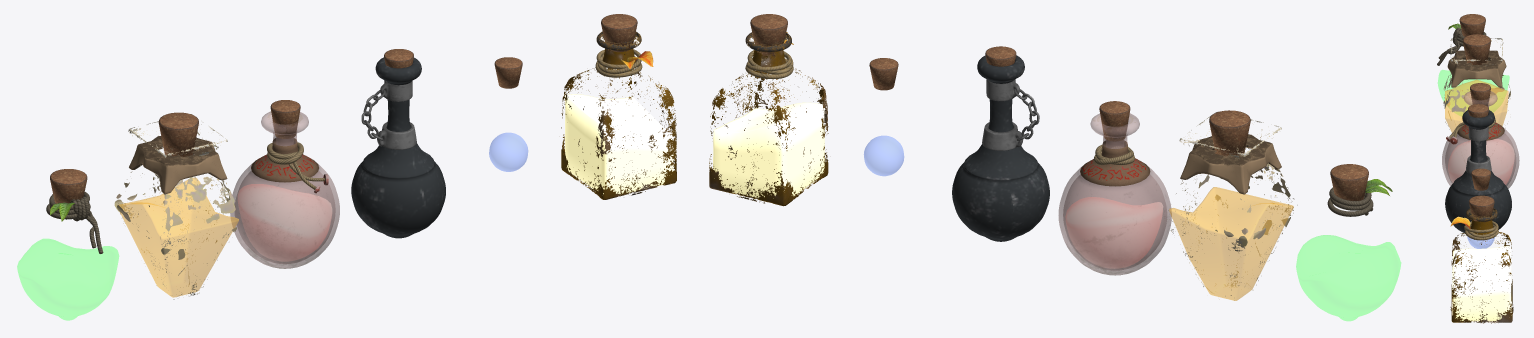
The model's file is Potions.fbx.
The picture shows the model from 3 angles, left to right: view 1: azimuth 30°, elevation 25°; view 2: azimuth 150°, elevation 25°; view 3: azimuth 270°, elevation 25°; orthographic projection. The views are drawn at different scales.
Parts seen in each view (by area): view 1: AttackSpeedBottle, Elixir of the Second Sight, HPRegenBottle, StrengthBottle, AgilityBotle, IllusionBottle; view 2: AttackSpeedBottle, Elixir of the Second Sight, HPRegenBottle, StrengthBottle, AgilityBotle, IllusionBottle; view 3: Elixir of the Second Sight, AttackSpeedBottle, StrengthBottle, HPRegenBottle, AgilityBotle, IllusionBottle.
Part boxes in pixels (x1,y1,x2,y2): AttackSpeedBottle: (114, 112, 238, 299); Elixir of the Second Sight: (561, 14, 676, 199); HPRegenBottle: (230, 100, 339, 268); StrengthBottle: (351, 49, 445, 238); AgilityBotle: (17, 169, 119, 320); IllusionBottle: (489, 57, 528, 171); AttackSpeedBottle: (1167, 110, 1297, 300); Elixir of the Second Sight: (709, 14, 828, 206); HPRegenBottle: (1058, 101, 1171, 275); StrengthBottle: (952, 46, 1049, 241); AgilityBotle: (1296, 164, 1401, 321); IllusionBottle: (863, 58, 904, 176); Elixir of the Second Sight: (1450, 195, 1513, 323); AttackSpeedBottle: (1443, 34, 1510, 132); StrengthBottle: (1445, 104, 1511, 232); HPRegenBottle: (1442, 83, 1519, 188); AgilityBotle: (1437, 14, 1509, 116); IllusionBottle: (1467, 168, 1494, 248).
Size of the model in its own units: 1033 by 282 by 168.
